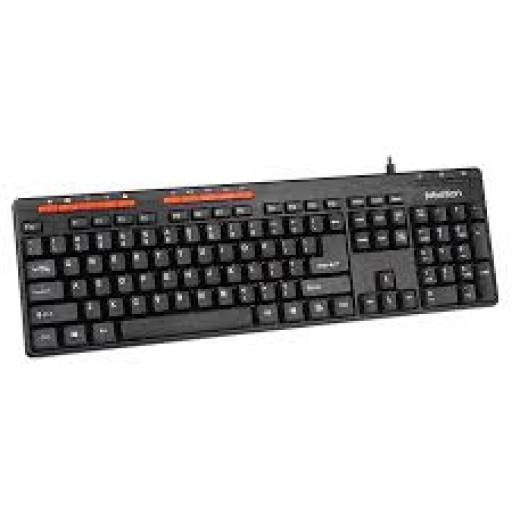keyboard: (16, 162, 496, 355)
